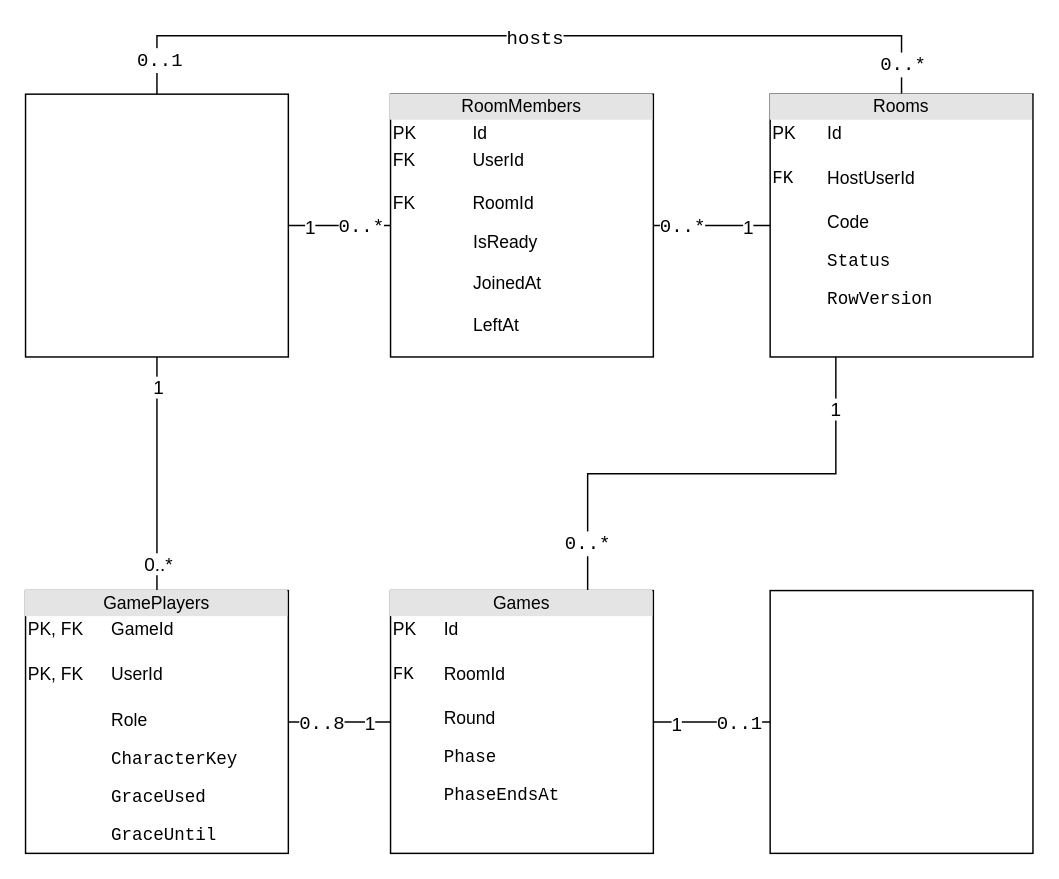
Some shapes in this 1059 by 879 pixel diagram are drawn without their labels. The centre of each missing label's shape, as x and y in pixels:
AspNetUsers PK Id DisplayName IsBlocked: [156,225]
GameCase s PK, FK GameId FK CaseVariantId PayloadJson: [901,721]
